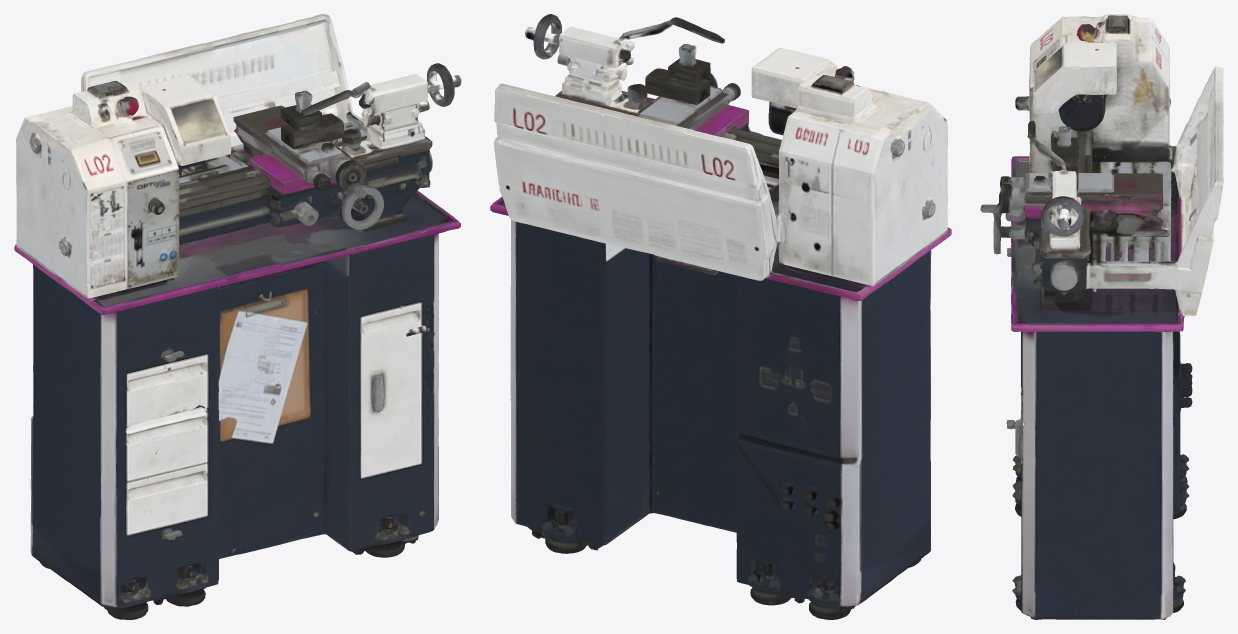
File: เครื่องกลึง.glb
The picture shows the model from 3 angles, left to right: view 1: azimuth 30°, elevation 25°; view 2: azimuth 150°, elevation 25°; view 3: azimuth 270°, elevation 25°; orthographic projection. The views are drawn at different scales.
Parts seen in each view (by area): view 1: Mesh_0; view 2: Mesh_0; view 3: Mesh_0.
Part boxes in pixels (<box>): Mesh_0: <box>14,14,461,619</box>; Mesh_0: <box>490,14,951,619</box>; Mesh_0: <box>980,14,1223,619</box>.
Size of the model in its own units: 0.1007 by 0.12 by 0.0555.
Materials: 1 (1 with a texture image).
